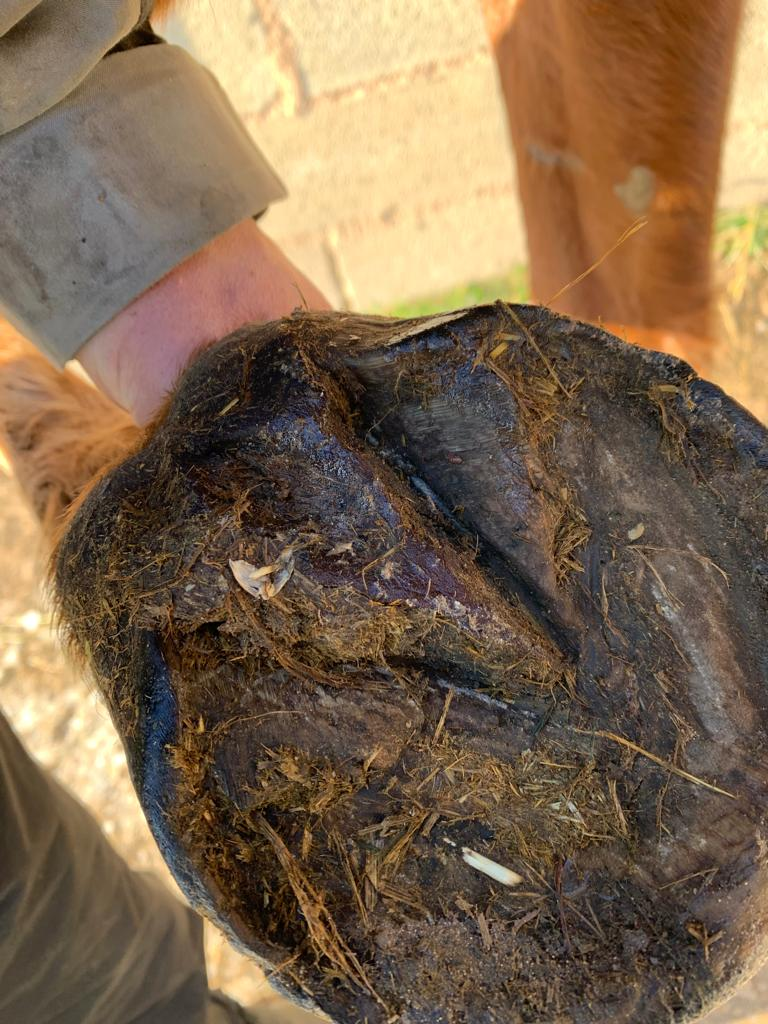horsesole: (125, 304, 768, 1024)
